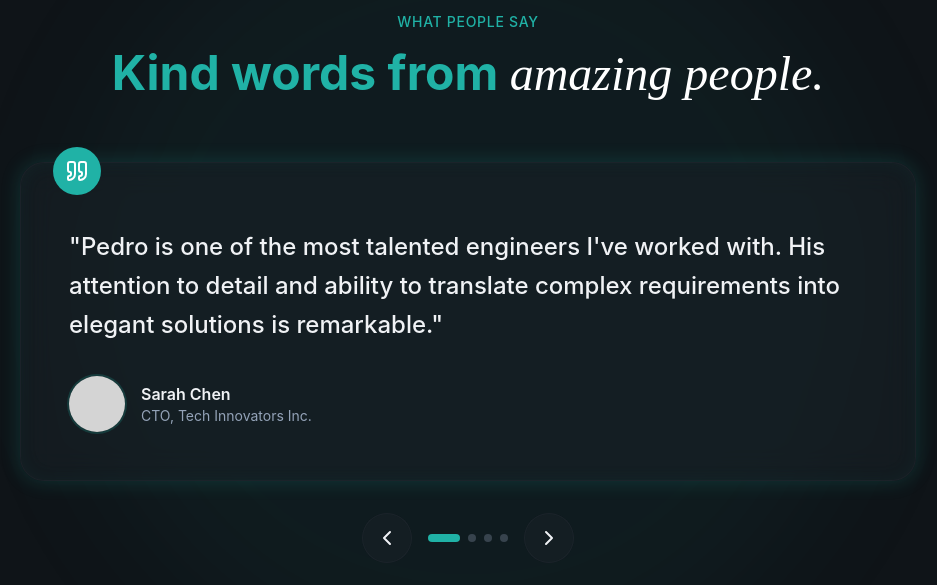
Testimonials section › navigates forward when next button is clicked
What coordinates should you click on to do the following:
click the 6th button
I would click on:
 (549, 538)
Its box is x1=524 y1=513 x2=574 y2=563.
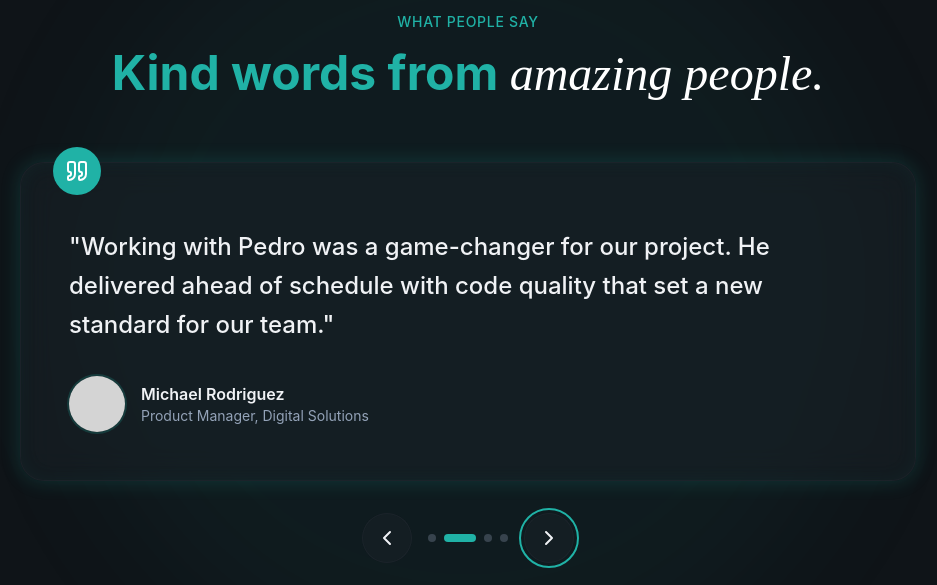
expect the text "Michael Rodriguez" is shown: met, box x1=141 y1=384 x2=285 y2=404
